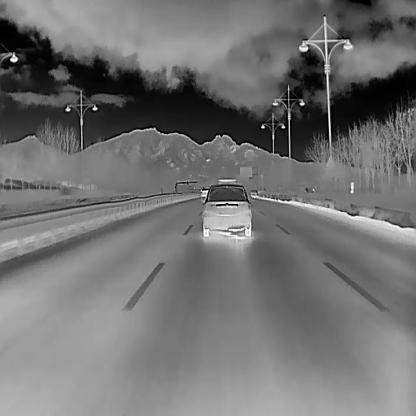car: (201, 183, 251, 236), (199, 185, 210, 203)
